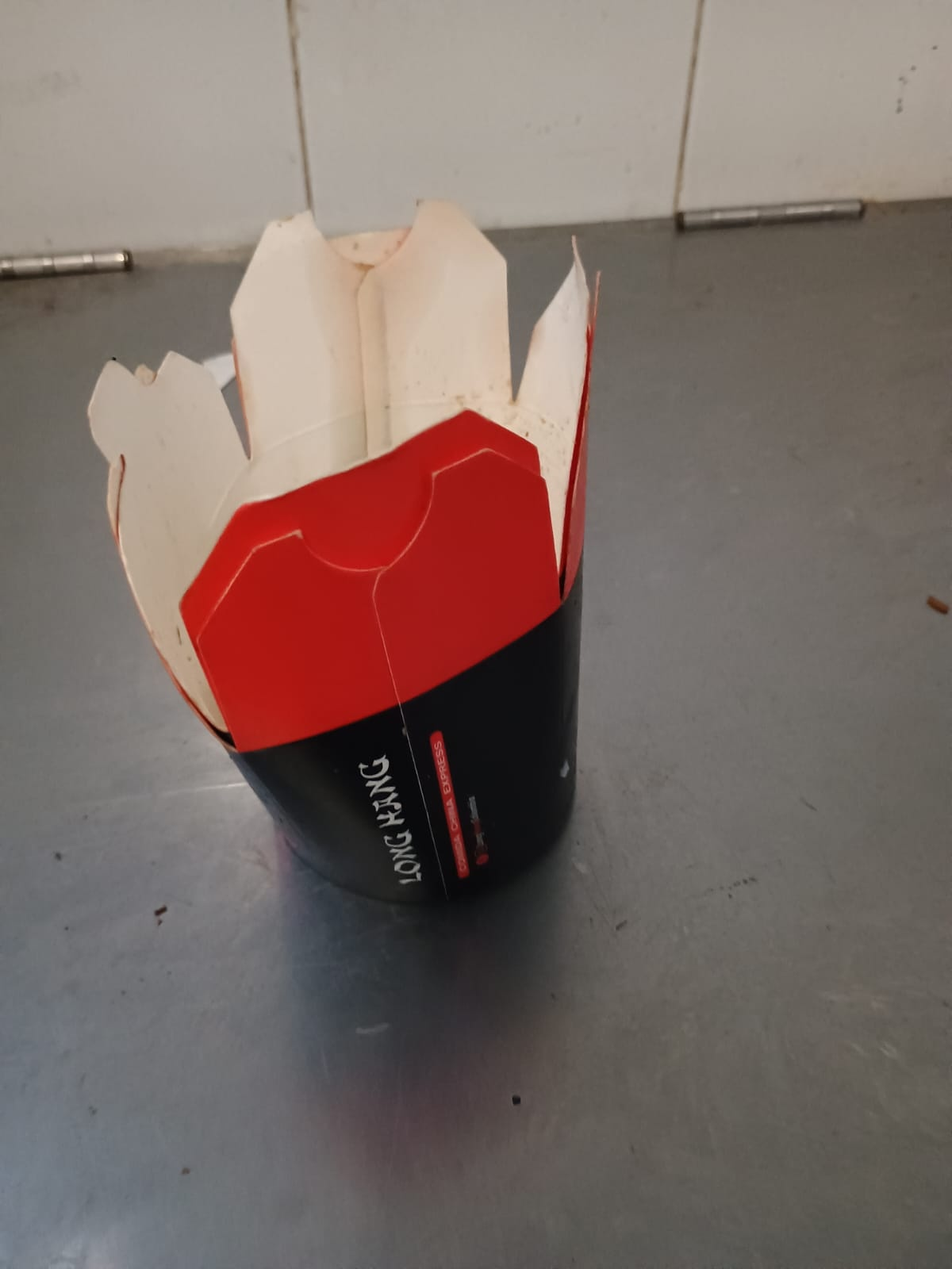Carton: (87, 198, 600, 899)
